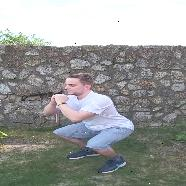squats: (36, 63, 141, 174)
